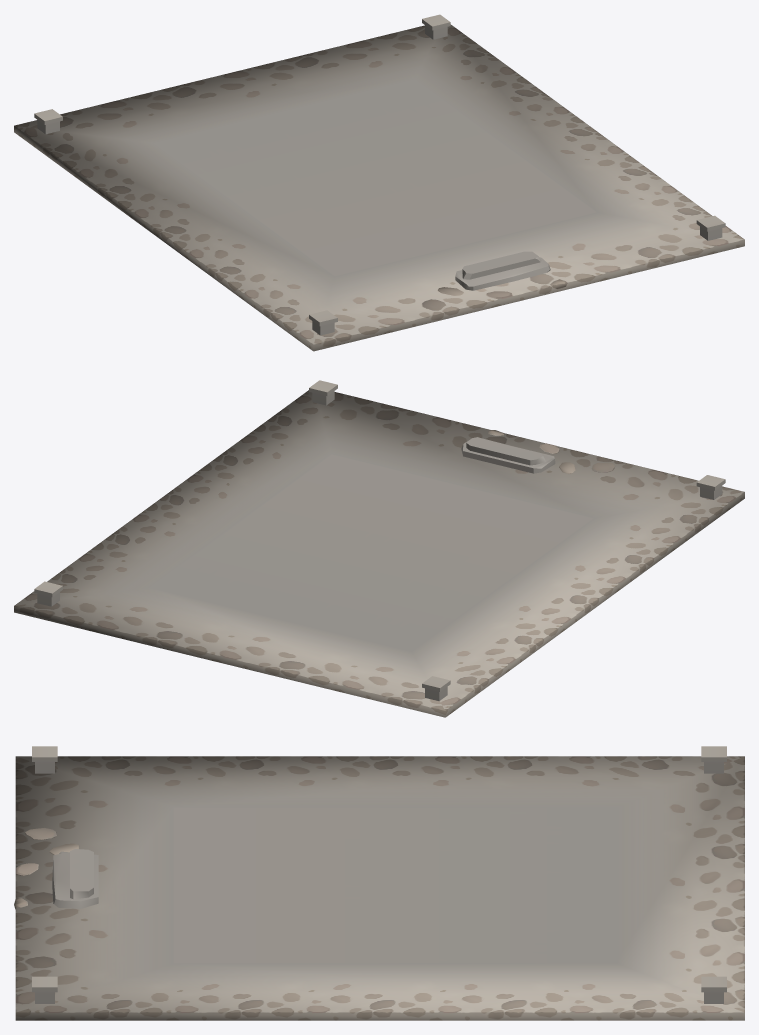
Rendered from SK_House_botoom_001.FBX.
3 views of the same model, one above another, from view 1: azimuth 30°, elevation 25°; view 2: azimuth 150°, elevation 25°; view 3: azimuth 270°, elevation 25° (orthographic). The views are drawn at different scales.
Parts seen in each view (by area): view 1: SK_House_botoom_001; view 2: SK_House_botoom_001; view 3: SK_House_botoom_001.
Part boxes in pixels (x1,y1,x2,y2): SK_House_botoom_001: [14, 14, 744, 351]; SK_House_botoom_001: [14, 380, 744, 717]; SK_House_botoom_001: [14, 746, 744, 1020].
Bounding box in the file's own units: 964 × 44.95 × 1162.
1 material, 1 textured.
